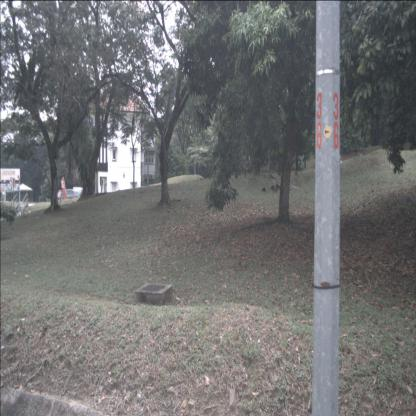vehicle-car: (56, 189, 82, 203)
